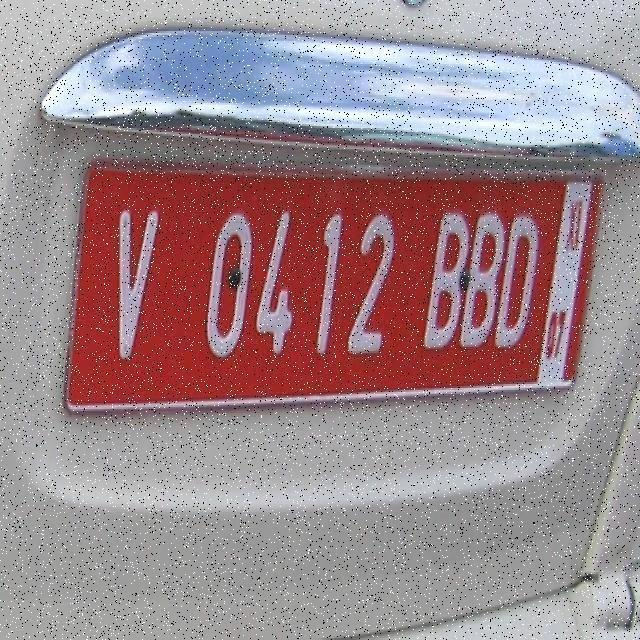License Plate: (35, 124, 620, 460)
